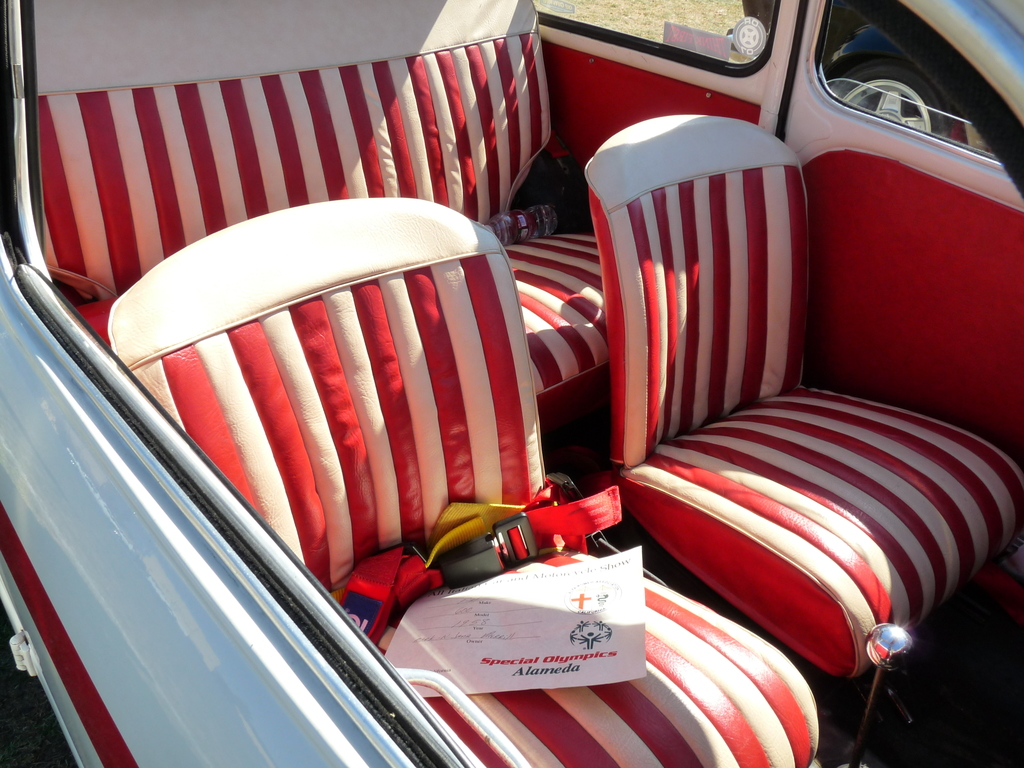Car: (0, 5, 1023, 767), (724, 0, 1023, 188)
